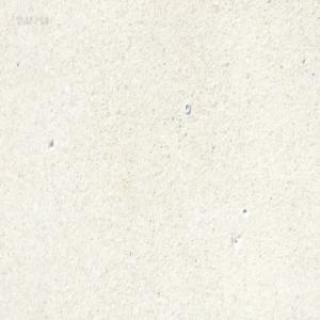Washertrack_idkeyframe: (183, 102, 190, 114)
